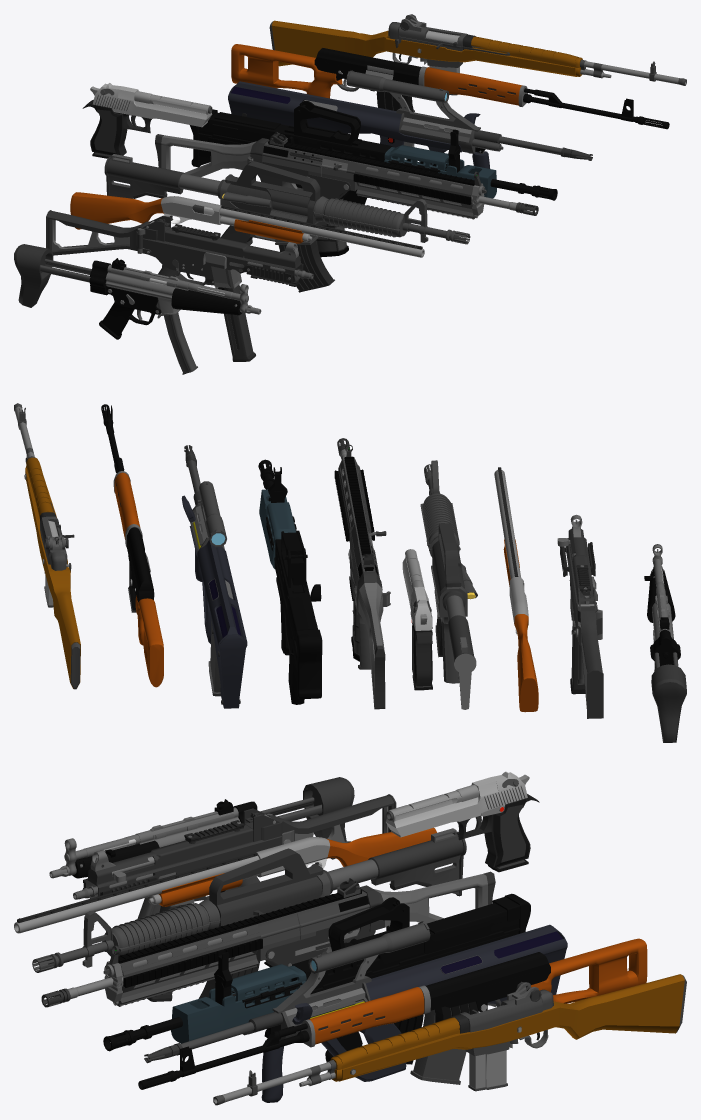
3 renders of one model, top to bottom at view 1: azimuth 30°, elevation 25°; view 2: azimuth 150°, elevation 25°; view 3: azimuth 270°, elevation 25°, orthographic. The views are drawn at different scales.
Visible parts, largest first — view 1: Colt_M16A2, SIG556, STEYR_AUG_A3, UMP45, M14_Classic, HK_MP5, SVD_Drogunov, L85A2, Remington870, Desert_Eagle; view 2: L85A2, STEYR_AUG_A3, SIG556, Colt_M16A2, UMP45, M14_Classic, SVD_Drogunov, HK_MP5, Remington870, Desert_Eagle; view 3: M14_Classic, SIG556, L85A2, STEYR_AUG_A3, Colt_M16A2, SVD_Drogunov, UMP45, Remington870, Desert_Eagle, HK_MP5.
Boxes of the visible parts, x1,y1,x2,y2 form: Colt_M16A2: (104,154,470,292); SIG556: (155,131,538,257); STEYR_AUG_A3: (228,70,592,168); UMP45: (46,210,313,361); M14_Classic: (269,14,686,95); HK_MP5: (14,244,261,374); SVD_Drogunov: (231,44,669,129); L85A2: (190,101,557,204); Remington870: (70,192,424,257); Desert_Eagle: (82,83,212,158); L85A2: (258,459,322,704); STEYR_AUG_A3: (181,445,247,708); SIG556: (334,438,390,709); Colt_M16A2: (420,460,477,709); UMP45: (557,514,603,718); M14_Classic: (14,403,80,689); SVD_Drogunov: (101,404,163,687); HK_MP5: (644,544,686,742); Remington870: (494,467,538,712); Desert_Eagle: (402,549,432,690); M14_Classic: (213,974,686,1105); SIG556: (41,871,495,1042); L85A2: (103,893,530,1064); STEYR_AUG_A3: (144,921,567,1102); Colt_M16A2: (32,828,466,998); SVD_Drogunov: (138,938,647,1089); UMP45: (73,794,396,1001); Remington870: (14,827,436,933); Desert_Eagle: (385,771,539,872); HK_MP5: (49,777,354,919).
Bounding box in the file's own units: 6930 × 1870 × 5002.
